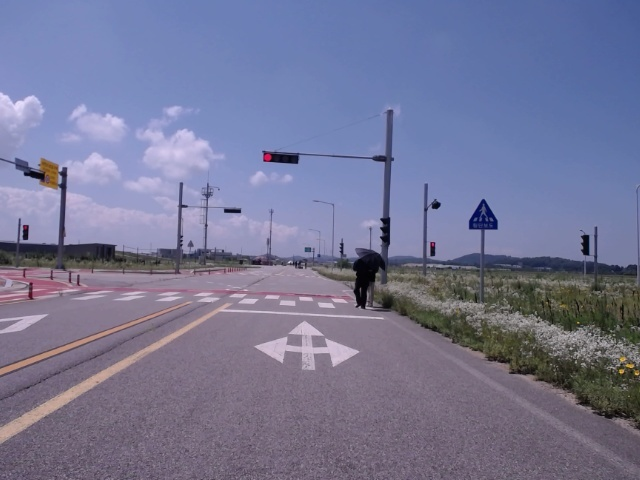red_4: (263, 153, 298, 164)
